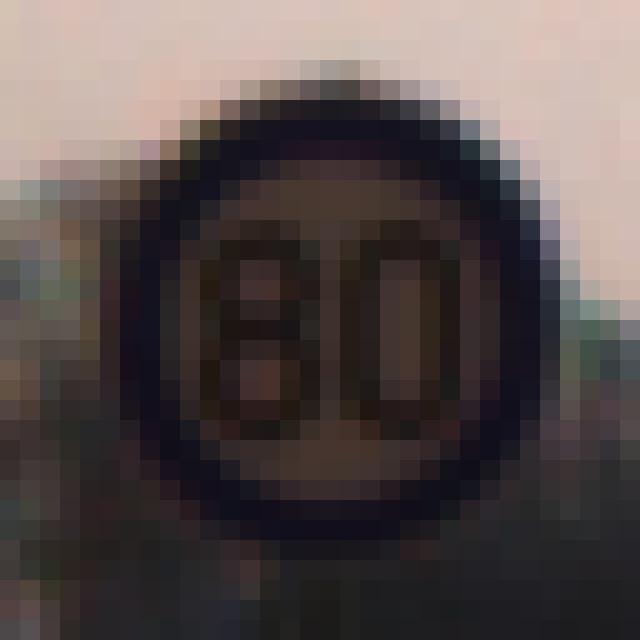SPEED-LIMIT-80: (109, 93, 557, 547)
